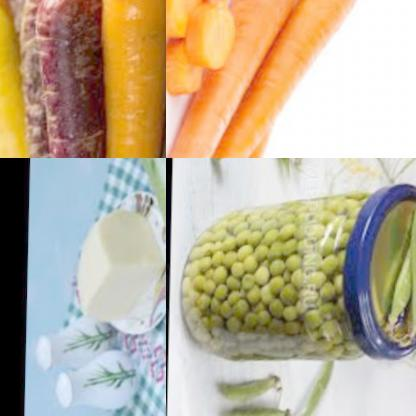carrot: (187, 0, 375, 158), (166, 0, 309, 158), (213, 0, 340, 158), (98, 0, 166, 158), (166, 0, 252, 105), (0, 0, 34, 158)
peas: (188, 195, 371, 379), (374, 195, 416, 350), (291, 359, 346, 416), (213, 378, 291, 416), (264, 158, 293, 200), (209, 158, 232, 169)
vegetable marrow: (98, 158, 166, 341)
